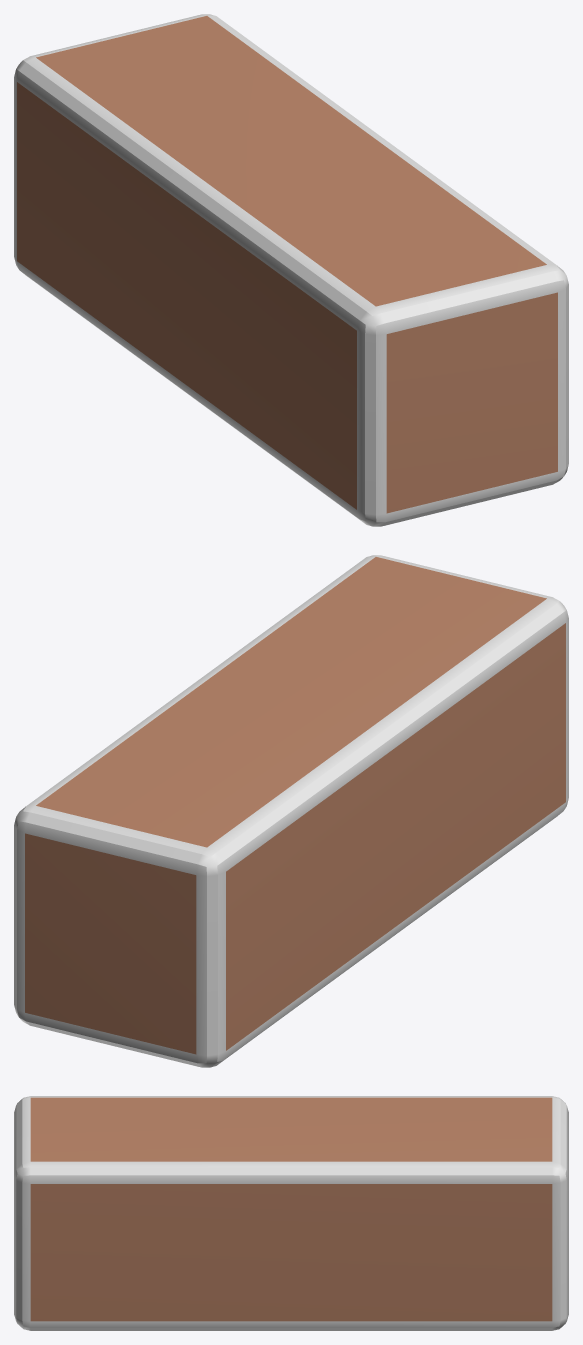
Rendered from brick.fbx.
The picture shows the model from 3 angles, top to bottom: view 1: azimuth 30°, elevation 25°; view 2: azimuth 150°, elevation 25°; view 3: azimuth 270°, elevation 25°; orthographic projection. The views are drawn at different scales.
Visible parts, largest first — view 1: pCube19; view 2: pCube19; view 3: pCube19.
Boxes of the visible parts, bbox=[...] form: pCube19: bbox=[14, 14, 568, 526]; pCube19: bbox=[14, 555, 568, 1067]; pCube19: bbox=[14, 1096, 568, 1330].
Size of the model in its own units: 1 by 1 by 3.
